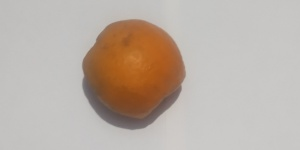BAD: (82, 19, 187, 121)
